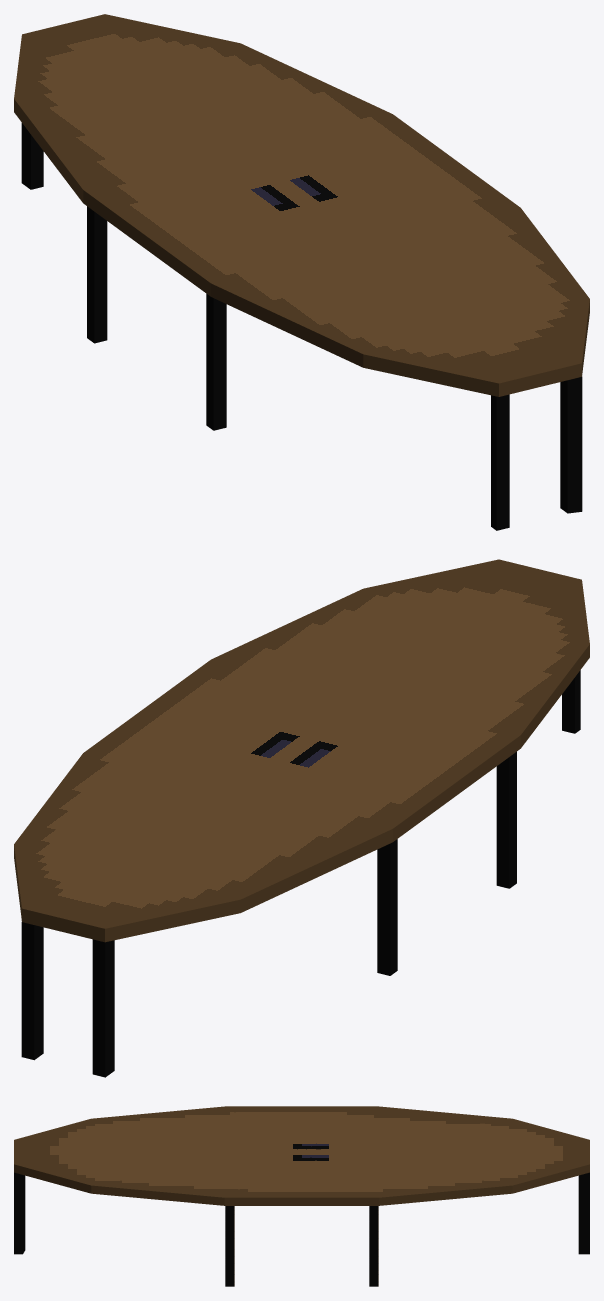
The model's file is BigRoundTable.glb.
The picture shows the model from 3 angles, top to bottom: view 1: azimuth 30°, elevation 25°; view 2: azimuth 150°, elevation 25°; view 3: azimuth 270°, elevation 25°; orthographic projection. The views are drawn at different scales.
Parts seen in each view (by area): view 1: cylinder, table; view 2: cylinder, table; view 3: cylinder, table.
Boxes of the visible parts, x1,y1,x2,y2 form: cylinder: (14,14,589,396); table: (21,123,582,530); cylinder: (14,559,589,942); table: (21,670,580,1077); cylinder: (14,1106,589,1205); table: (14,1172,589,1286).
Size of the model in its own units: 1.5 by 0.6875 by 4.
Materials: 1 (1 with a texture image).
